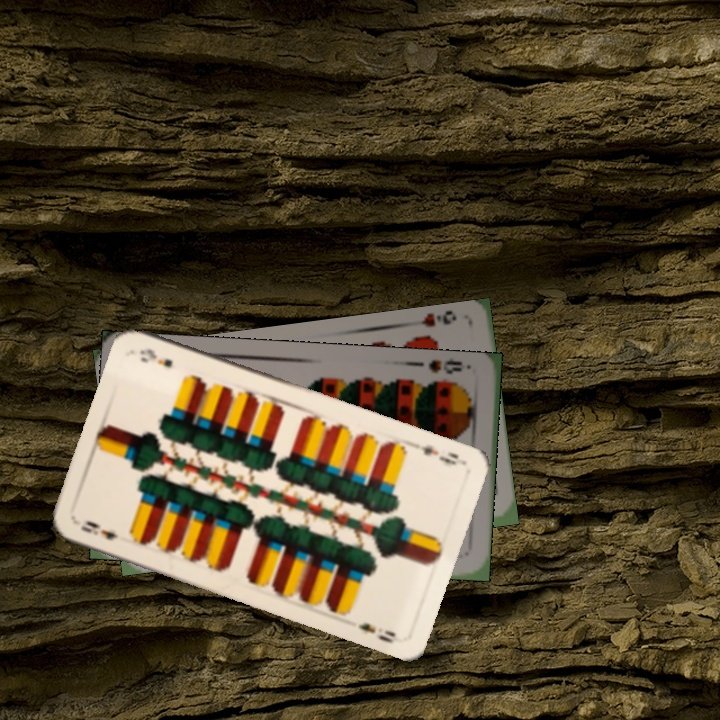E9: (408, 441, 461, 468), (76, 516, 121, 543)
H9: (417, 309, 459, 330)
S8: (425, 356, 465, 376)
